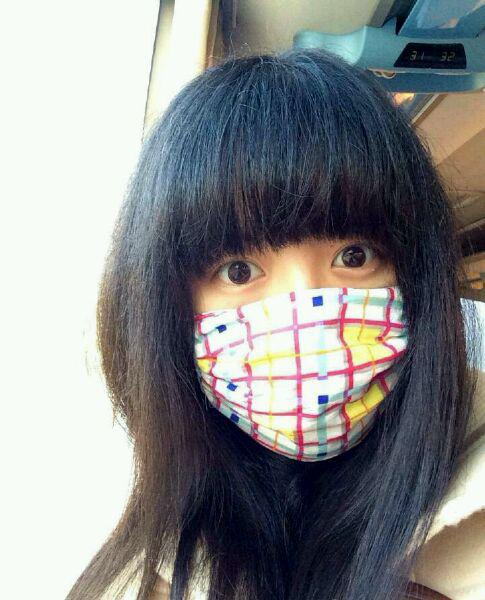OK: (184, 217, 417, 450)
